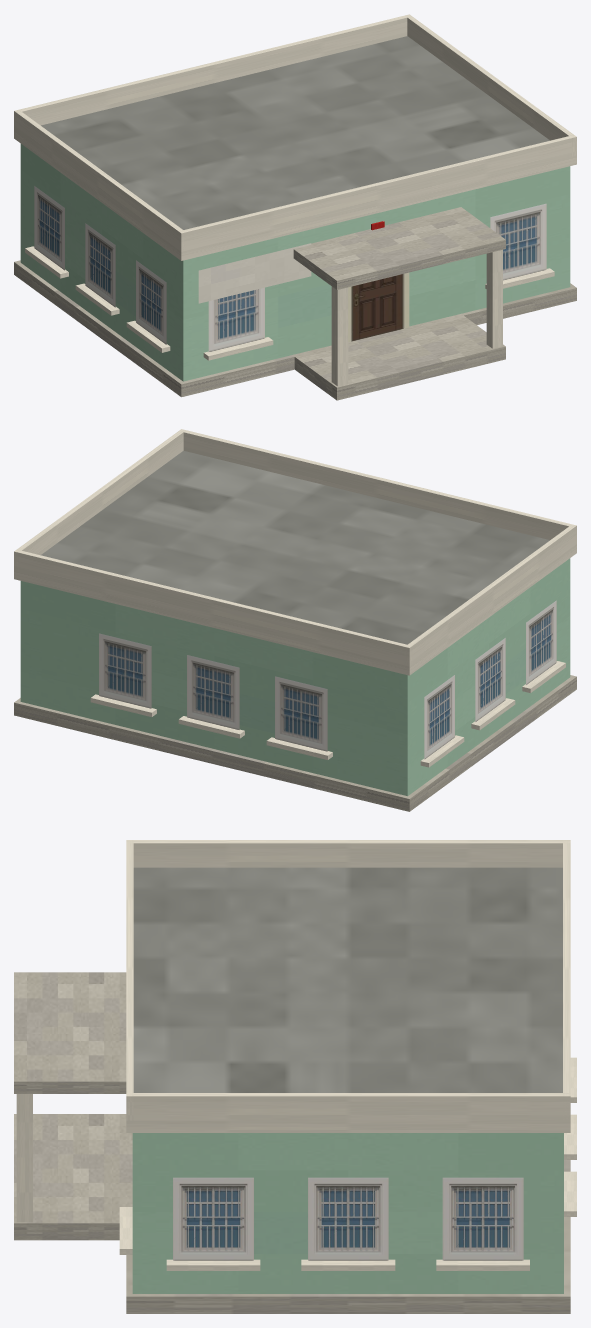
File: clinic-mint.glb
3 renders of one model, top to bottom at view 1: azimuth 30°, elevation 25°; view 2: azimuth 150°, elevation 25°; view 3: azimuth 270°, elevation 25°, orthographic. The views are drawn at different scales.
Parts seen in each view (by area): view 1: clinic-mint, sign_1; view 2: clinic-mint; view 3: clinic-mint.
Part boxes in pixels (left/top/right/bottom): clinic-mint: left=14, top=14, right=576, bottom=400; sign_1: left=198, top=243, right=311, bottom=303; clinic-mint: left=14, top=429, right=576, bottom=811; clinic-mint: left=14, top=840, right=576, bottom=1313.
Bounding box in the file's own units: 11.48 × 4.45 × 10.44.
Materials: 1 (1 with a texture image).
